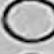no answer: (3, 1, 54, 44)
